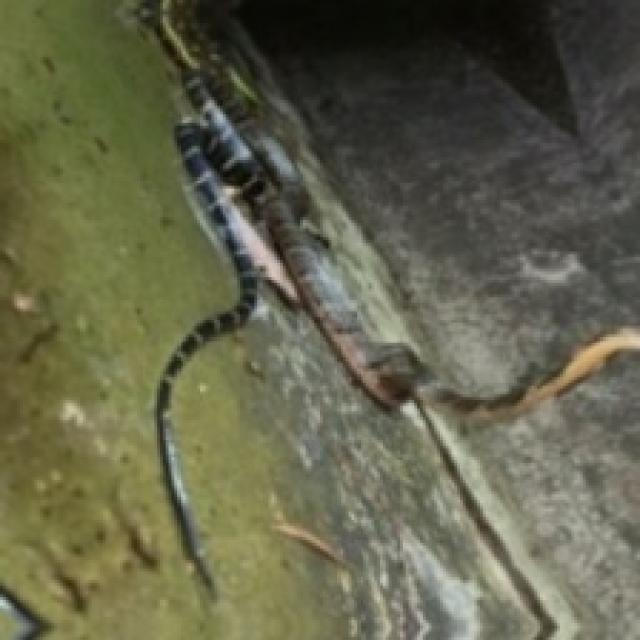king cobra: (149, 0, 637, 403), (246, 289, 637, 637)
